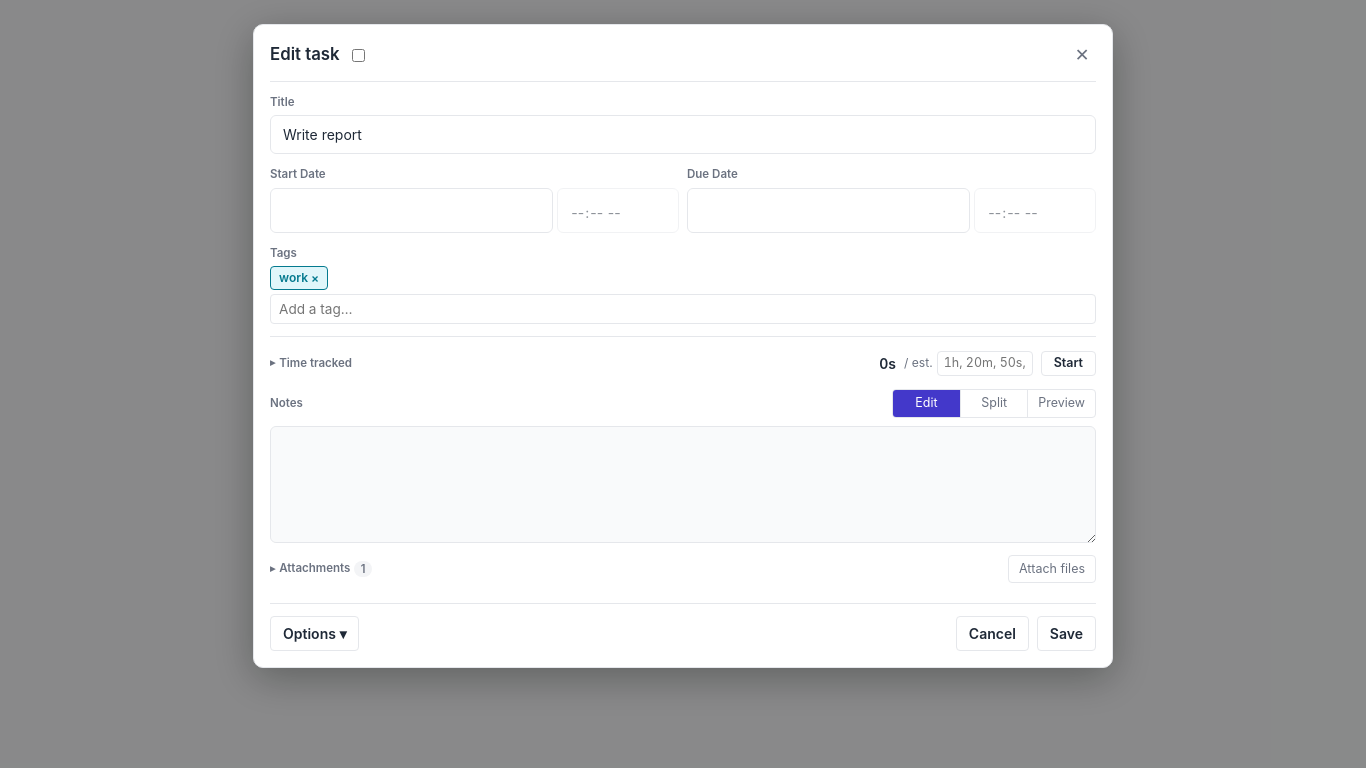
TaskEditor attachments in notes (#113) › is collapsed by default and toggles open/closed
Expected: the button "doc.pdf" is not shown
Click the button "▸ Attachments 1": (321, 569) [270, 560, 372, 578]
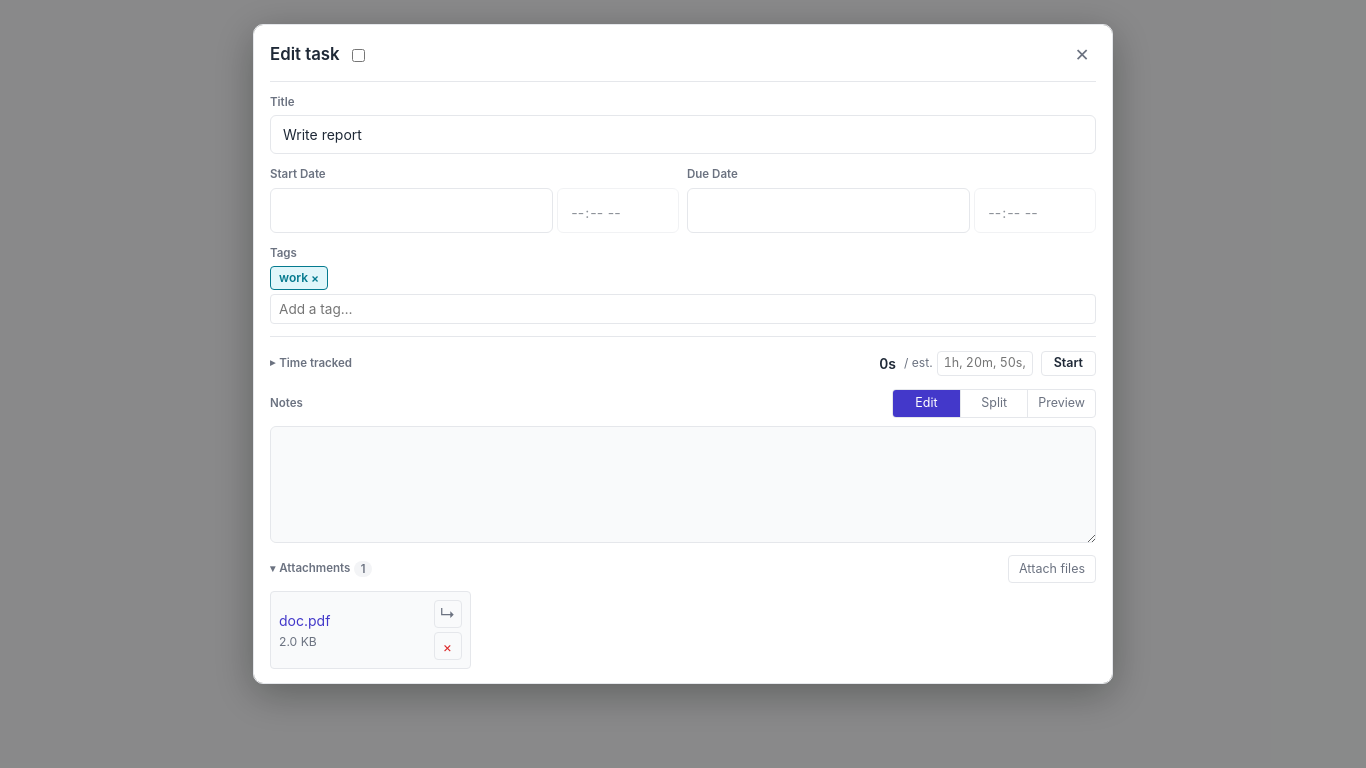
Now the button "▾ Attachments 1" is expanded
Now the button "doc.pdf" is shown, box [279, 610, 426, 631]
Click the button "▾ Attachments 1": (321, 569) [270, 560, 372, 578]
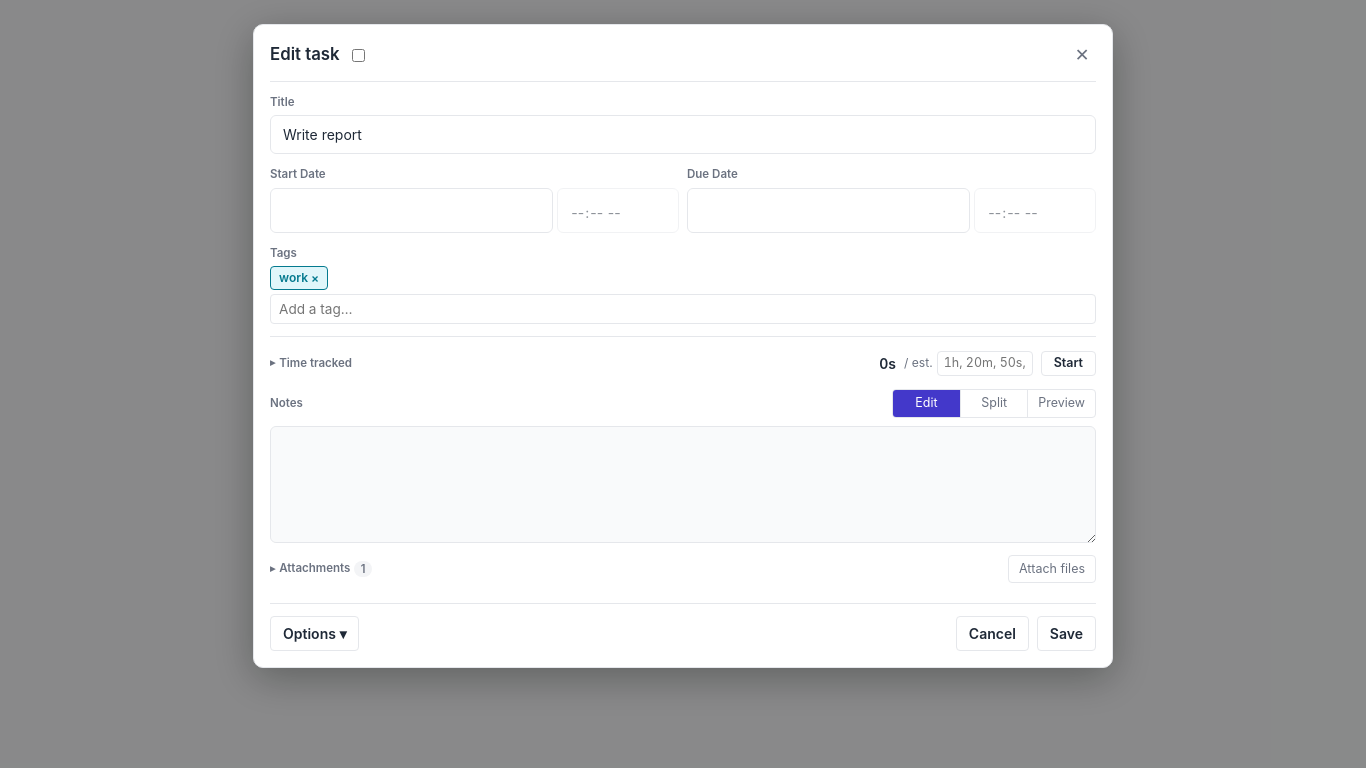
Now the button "doc.pdf" is gone
